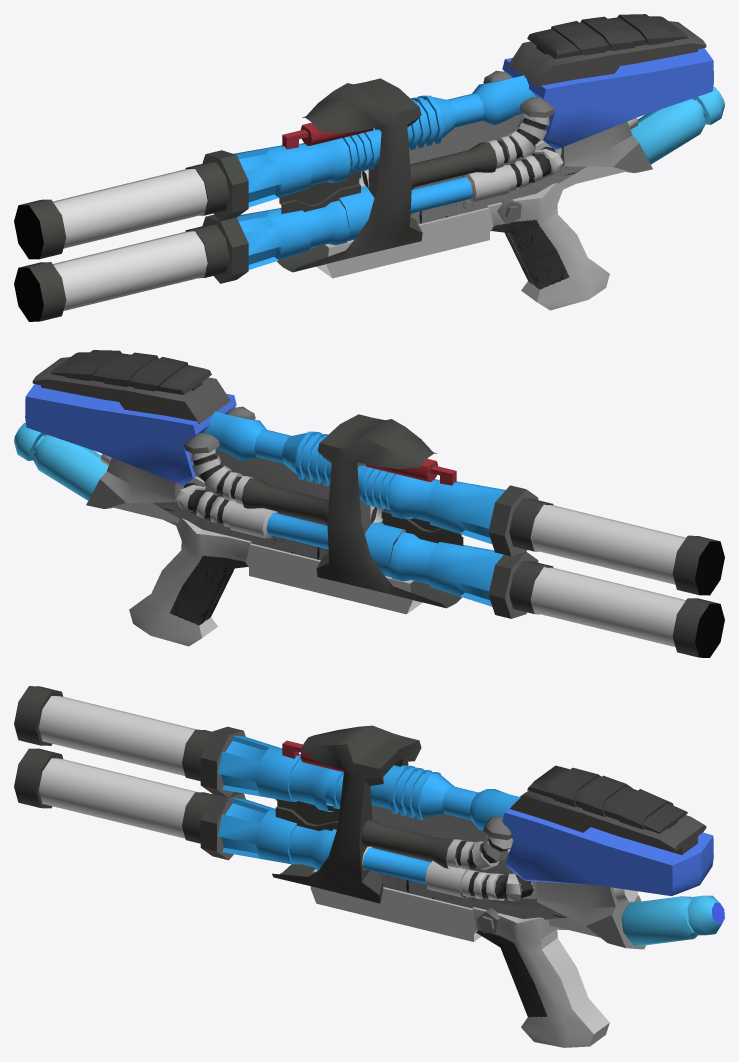
The model's file is mbgun.fbx.
3 views of the same model, one above another, from view 1: azimuth 30°, elevation 25°; view 2: azimuth 150°, elevation 25°; view 3: azimuth 330°, elevation 25° (orthographic).
Parts seen in each view (by area): view 1: Cylinder.023; view 2: Cylinder.023; view 3: Cylinder.023.
Part boxes in pixels (x1,y1,x2,y2): Cylinder.023: (14, 14, 724, 321); Cylinder.023: (14, 350, 724, 657); Cylinder.023: (14, 686, 724, 1047).
Bounding box in the file's own units: 519 × 190 × 68.75.
Materials: 1 (1 with a texture image).
